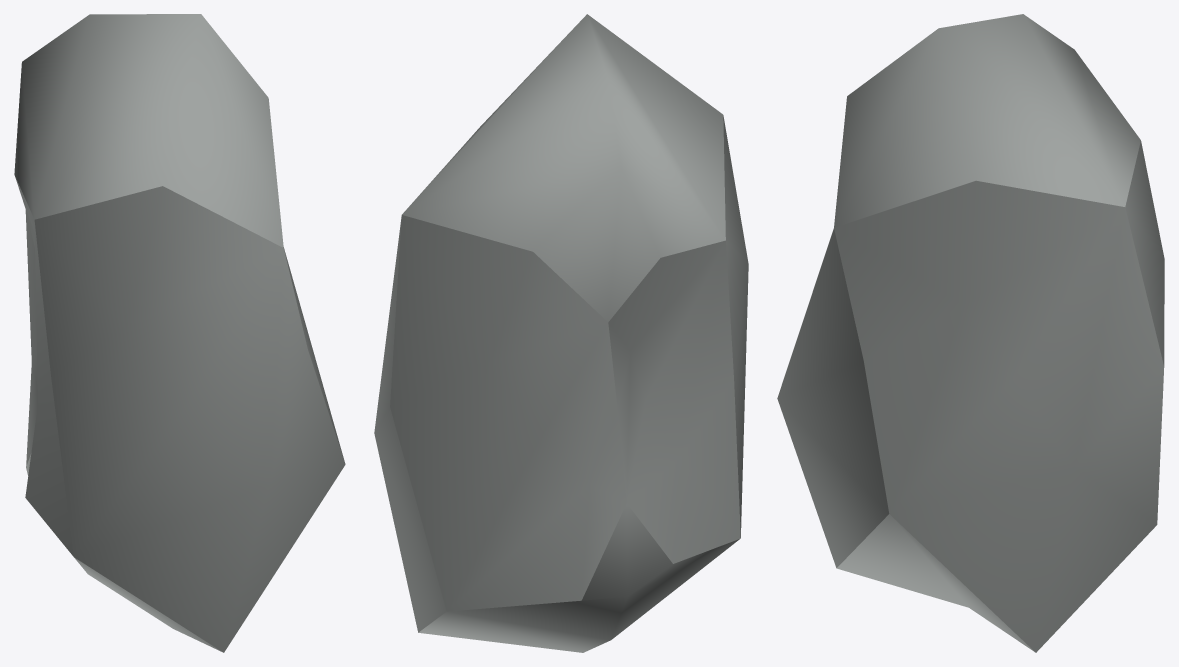
File: tas1.fbx
3 views of the same model, side by side, from view 1: azimuth 30°, elevation 25°; view 2: azimuth 150°, elevation 25°; view 3: azimuth 270°, elevation 25° (orthographic). The views are drawn at different scales.
Visible parts, largest first — view 1: tas1; view 2: tas1; view 3: tas1.
Boxes of the visible parts, left/top/right/bottom form: tas1: left=14, top=14, right=345, bottom=652; tas1: left=374, top=14, right=748, bottom=652; tas1: left=777, top=14, right=1164, bottom=652.
Size of the model in its own units: 98.15 by 200 by 120.
